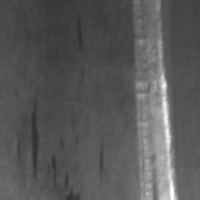inclusion: (24, 97, 46, 182), (49, 151, 83, 199), (94, 135, 110, 179), (71, 13, 88, 54)
scratches: (126, 0, 178, 199)
